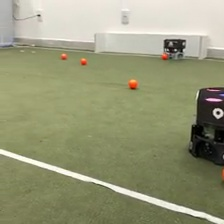ball: (127, 77, 138, 89), (79, 55, 88, 65), (161, 51, 168, 59), (60, 51, 67, 59)
goal: (92, 30, 209, 61)
robot: (186, 85, 224, 167), (163, 37, 187, 61)
